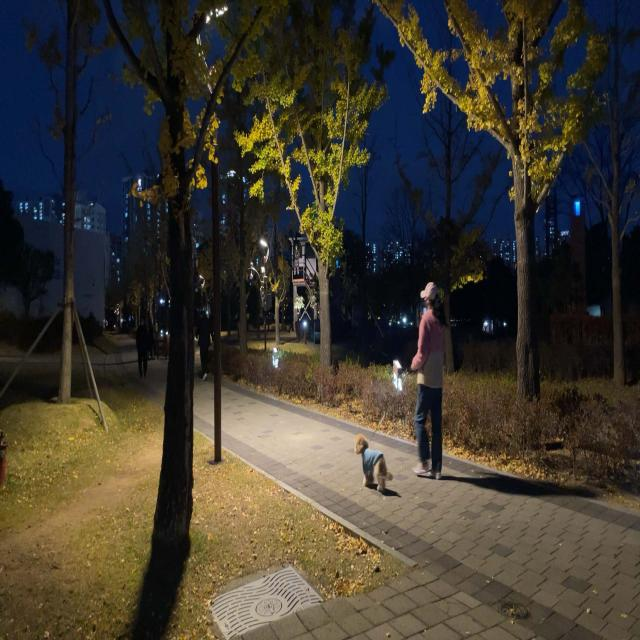Leashed_Dog: (354, 359, 431, 493)
